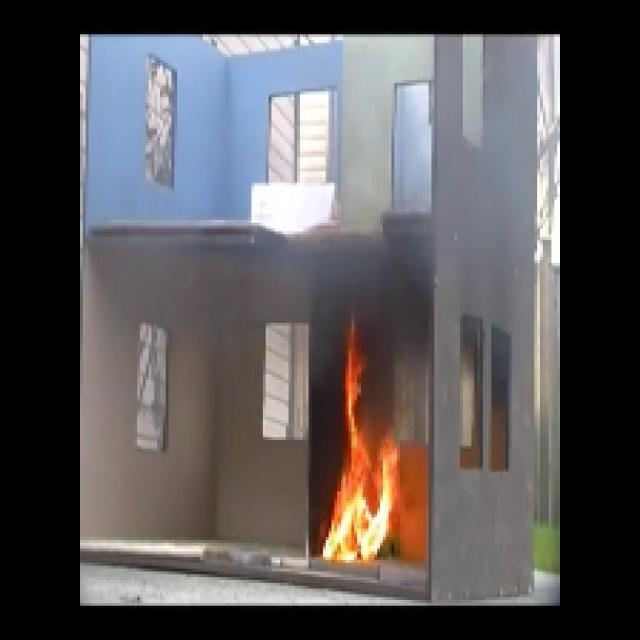Fire: (342, 378, 395, 564)
Smoke: (317, 250, 412, 322)
